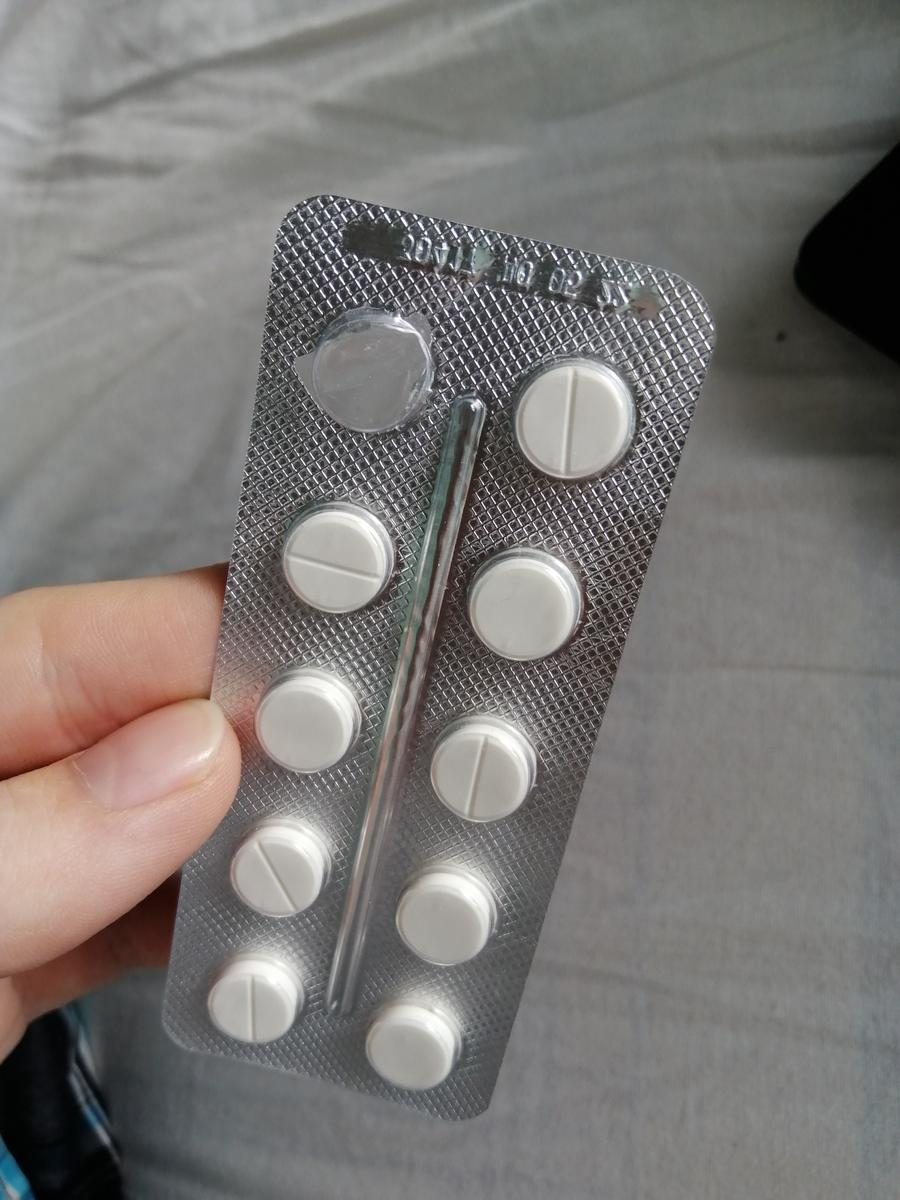tablet: (513, 355, 642, 485), (461, 544, 583, 667), (428, 712, 542, 828), (282, 499, 387, 621), (251, 676, 363, 776), (391, 867, 496, 969), (227, 822, 332, 922), (361, 1003, 464, 1088), (206, 963, 305, 1045)
